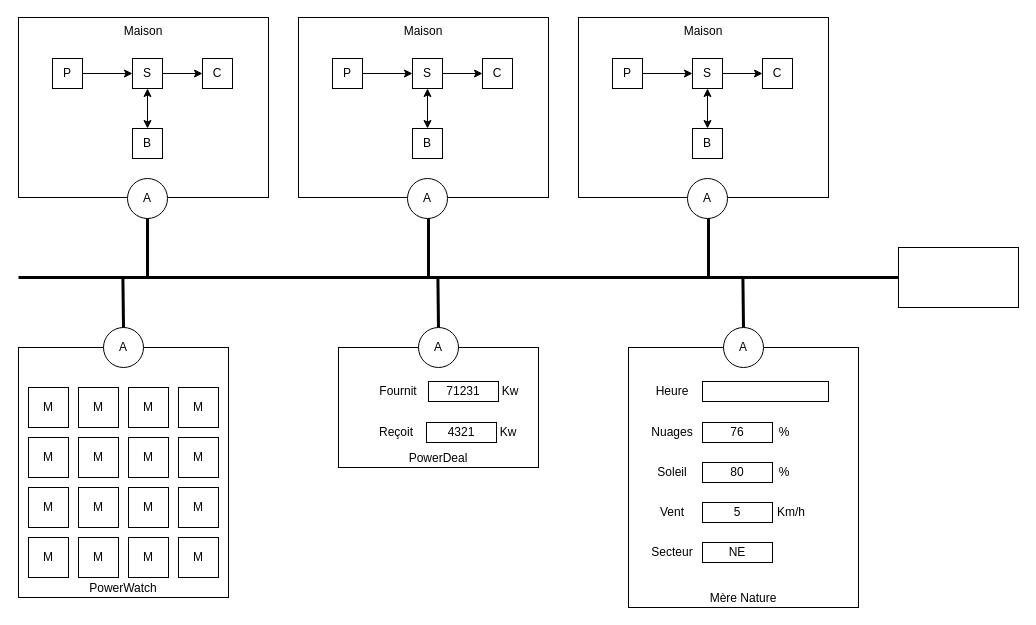
Some shapes in this 1036 by 625 pixel diagram are drawn without their labels. The shapes that lost their labels are listed below. From the top down, each one's centre as x and y in pixels, then its label:
pixel 958 277: Broker MQTT
pixel 765 391: 22.10.2024 13h43:35
